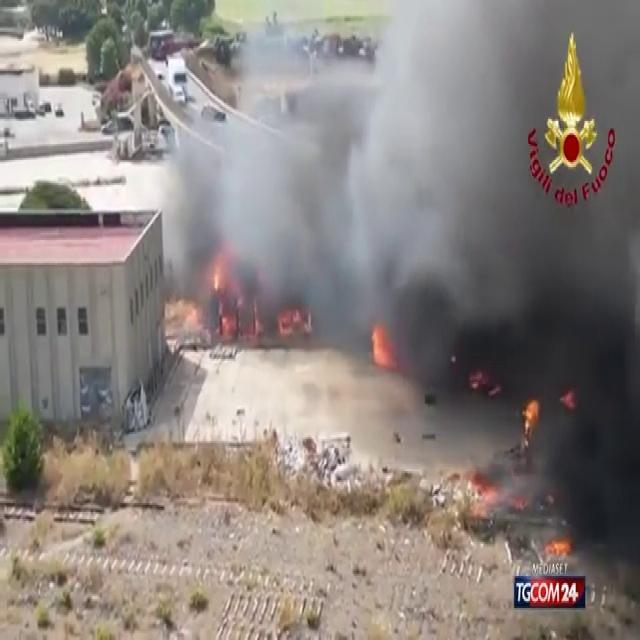Fire: (368, 314, 396, 376)
Smoke: (160, 0, 640, 379)
